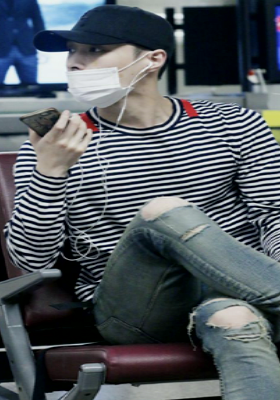mask_weared_incorrect: (64, 43, 149, 108)
